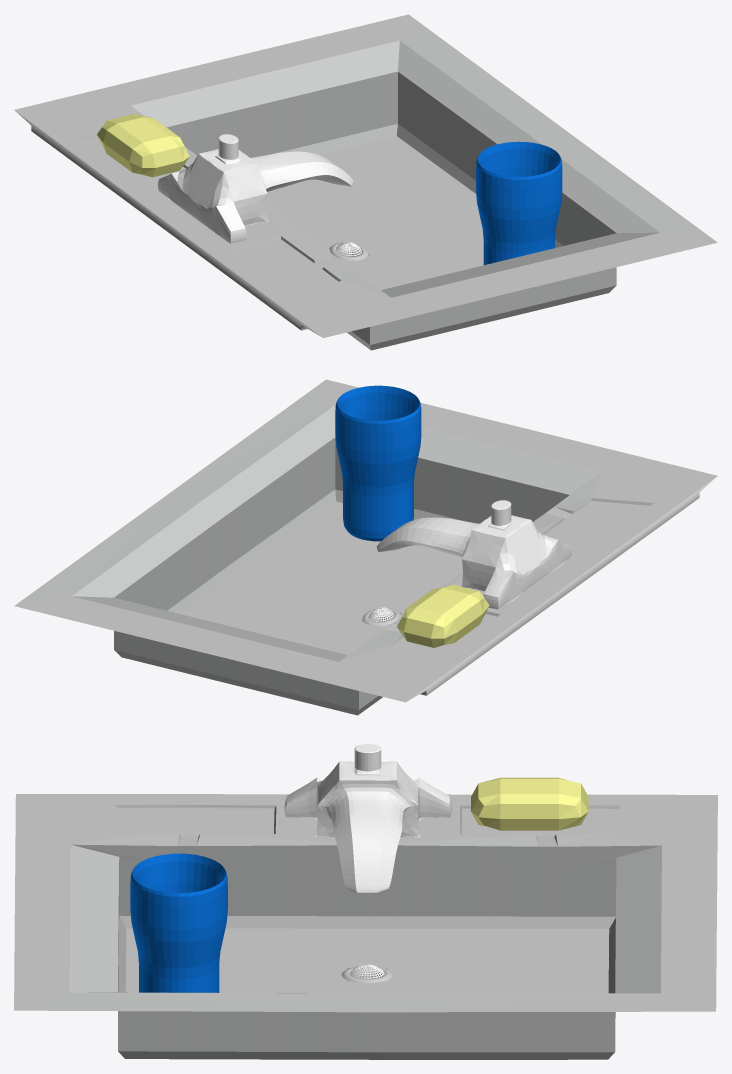
File: Sink_LSVC.obj
3 views of the same model, one above another, from view 1: azimuth 30°, elevation 25°; view 2: azimuth 150°, elevation 25°; view 3: azimuth 270°, elevation 25° (orthographic). The views are drawn at different scales.
Parts seen in each view (by area): view 1: sink; view 2: sink; view 3: sink.
Boxes of the visible parts, x1,y1,x2,y2 form: sink: (14,14,717,350); sink: (14,379,717,715); sink: (14,744,717,1059).
Size of the model in its own units: 55.39 by 23.95 by 75.31.
5 materials, 4 textured.
